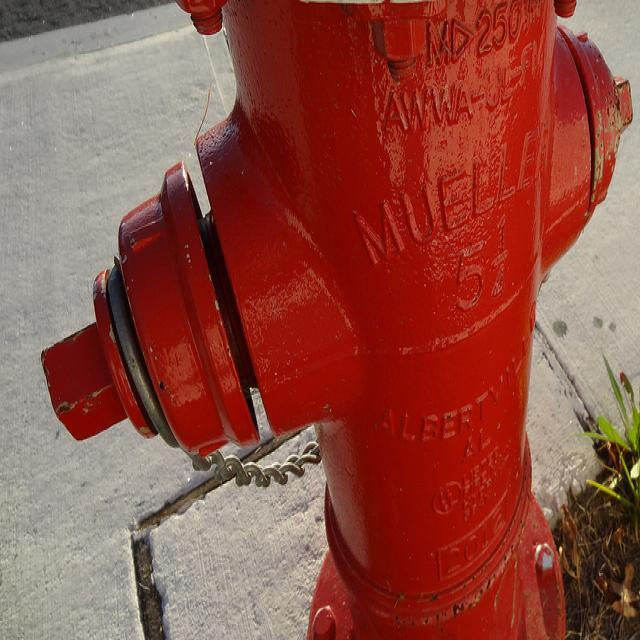fire_hydrant: (41, 0, 633, 631)
